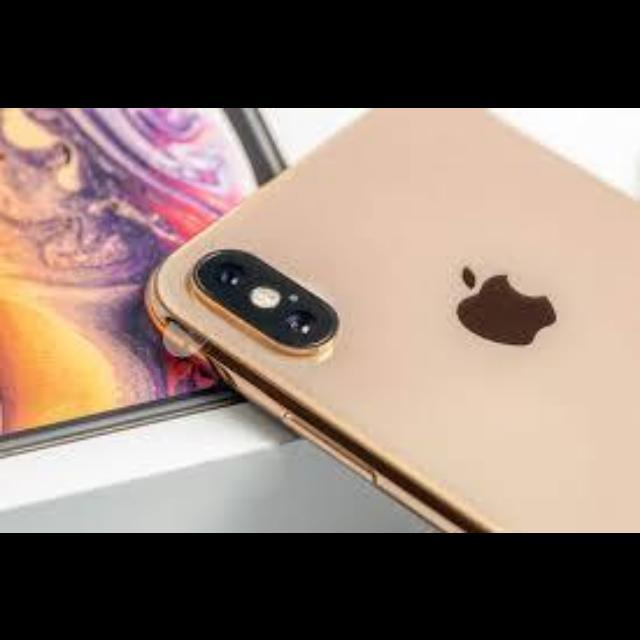PhoneUse: (147, 108, 638, 532)
